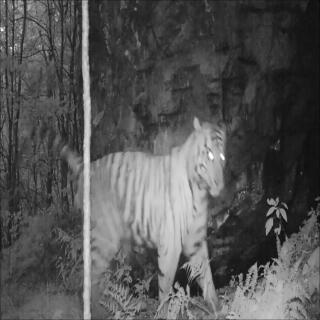Tiger: (53, 107, 258, 305)
